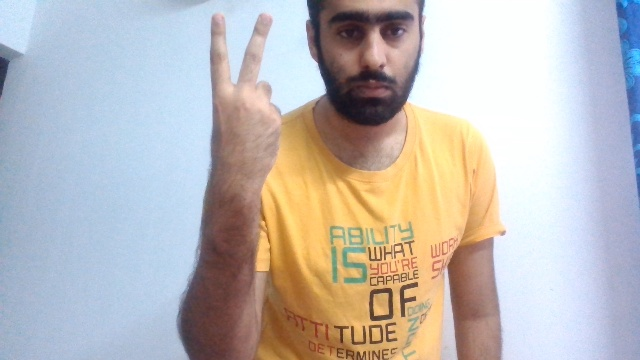scissors: (208, 12, 284, 185)
